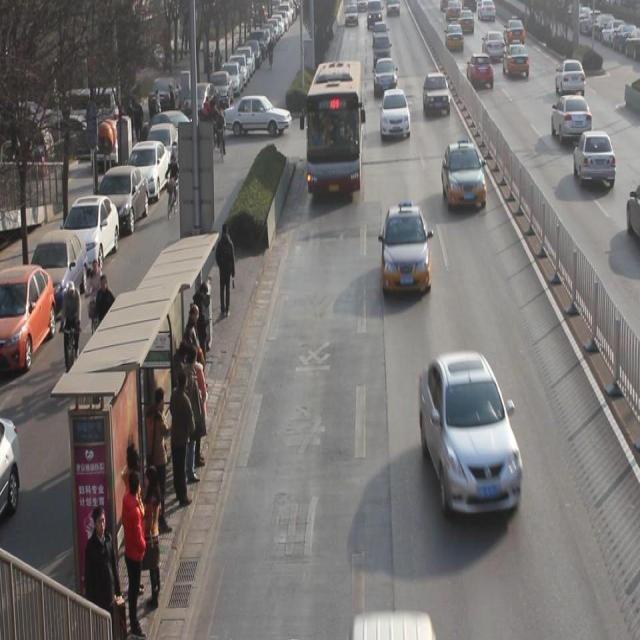car: (419, 349, 524, 514), (382, 200, 431, 292), (441, 138, 487, 208), (574, 128, 616, 187), (552, 92, 592, 140), (380, 86, 411, 137), (423, 70, 451, 114), (555, 58, 586, 94), (467, 49, 494, 88), (373, 55, 398, 94), (503, 39, 530, 75), (482, 28, 506, 59), (504, 13, 526, 42), (445, 18, 464, 51), (374, 19, 388, 40)
truck: (374, 31, 391, 65)
van: (304, 60, 362, 195)
